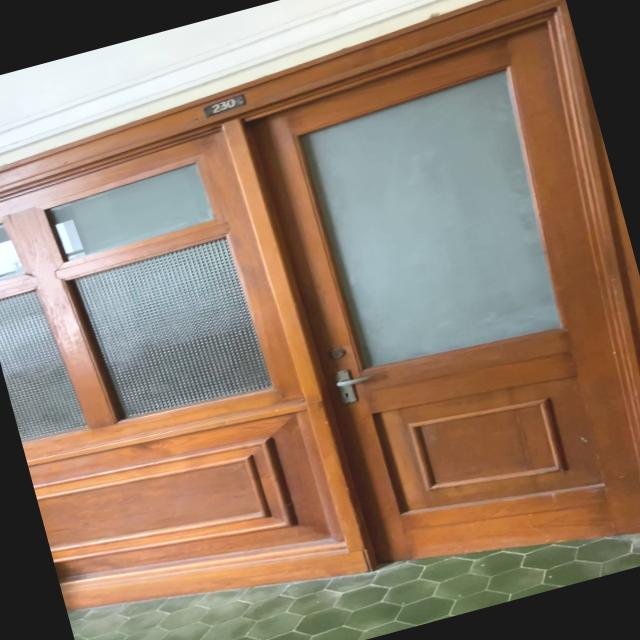room230: (198, 92, 248, 120)
